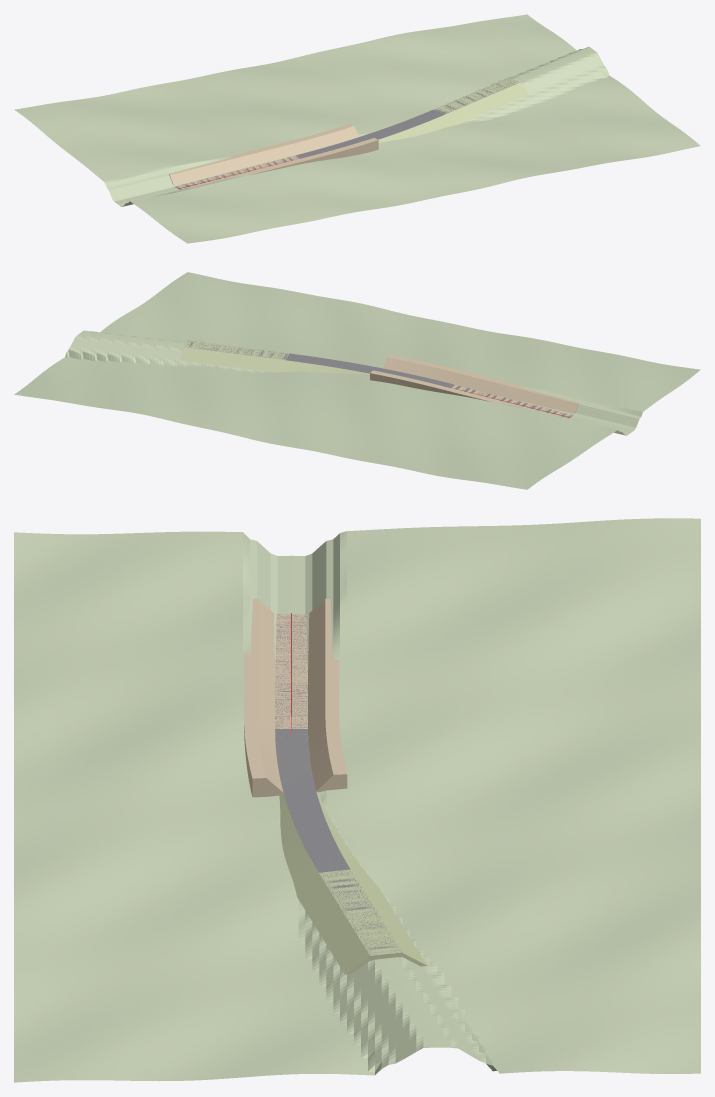
3 renders of one model, top to bottom at view 1: azimuth 30°, elevation 25°; view 2: azimuth 150°, elevation 25°; view 3: azimuth 270°, elevation 25°, orthographic. The views are drawn at different scales.
Parts seen in each view (by area): view 1: 地形|現況地形 (参考・土工後の地表面), 本体|標準横断スイープ 切土部 (1:1.0, H=5m 固定), 本体|標準横断スイープ 盛土部 (1:1.5, H=5m 固定), 本体|路面 (標準横断); view 2: 地形|現況地形 (参考・土工後の地表面), 本体|標準横断スイープ 切土部 (1:1.0, H=5m 固定), 本体|標準横断スイープ 盛土部 (1:1.5, H=5m 固定), 本体|路面 (標準横断); view 3: 地形|現況地形 (参考・土工後の地表面), 本体|標準横断スイープ 切土部 (1:1.0, H=5m 固定), 本体|標準横断スイープ 盛土部 (1:1.5, H=5m 固定), 本体|路面 (標準横断).
Boxes of the visible parts, x1,y1,x2,y2 form: 地形|現況地形 (参考・土工後の地表面): (14, 14, 700, 243); 本体|標準横断スイープ 切土部 (1:1.0, H=5m 固定): (168, 124, 378, 189); 本体|標準横断スイープ 盛土部 (1:1.5, H=5m 固定): (378, 77, 528, 142); 本体|路面 (標準横断): (175, 78, 518, 189); 地形|現況地形 (参考・土工後の地表面): (14, 272, 700, 489); 本体|標準横断スイープ 切土部 (1:1.0, H=5m 固定): (370, 354, 579, 418); 本体|標準横断スイープ 盛土部 (1:1.5, H=5m 固定): (180, 340, 369, 375); 本体|路面 (標準横断): (188, 340, 572, 418); 地形|現況地形 (参考・土工後の地表面): (14, 518, 700, 1082); 本体|標準横断スイープ 切土部 (1:1.0, H=5m 固定): (244, 598, 347, 797); 本体|標準横断スイープ 盛土部 (1:1.5, H=5m 固定): (279, 791, 426, 974); 本体|路面 (標準横断): (275, 614, 401, 956).
Bounding box in the file's own units: 338 × 21.85 × 198.
